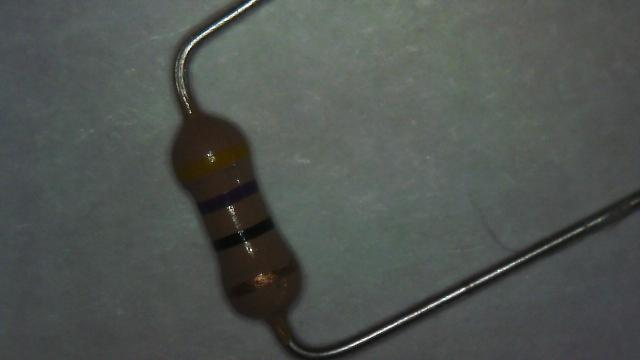black: (213, 218, 274, 251)
gold: (229, 262, 296, 298)
resistor: (135, 80, 338, 340)
violet: (198, 180, 258, 213)
yellow: (178, 142, 248, 180)
